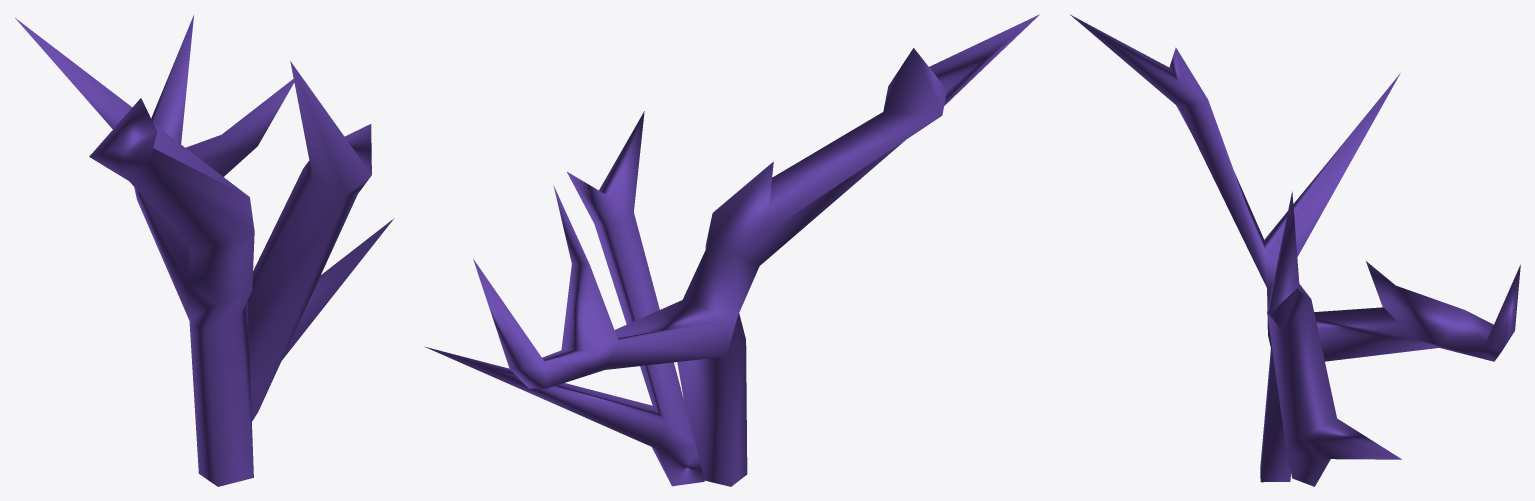
The model's file is seaGrassMiddleViolet.fbx.
The picture shows the model from 3 angles, left to right: view 1: azimuth 30°, elevation 25°; view 2: azimuth 150°, elevation 25°; view 3: azimuth 270°, elevation 25°; orthographic projection. The views are drawn at different scales.
Visible parts, largest first — view 1: seaGrassMiddleVioletObject; view 2: seaGrassMiddleVioletObject; view 3: seaGrassMiddleVioletObject.
Boxes of the visible parts, x1,y1,x2,y2 form: seaGrassMiddleVioletObject: (15, 15, 394, 486); seaGrassMiddleVioletObject: (424, 14, 1039, 486); seaGrassMiddleVioletObject: (1070, 14, 1520, 486).
Size of the model in its own units: 0.4555 by 0.4336 by 0.4737.
